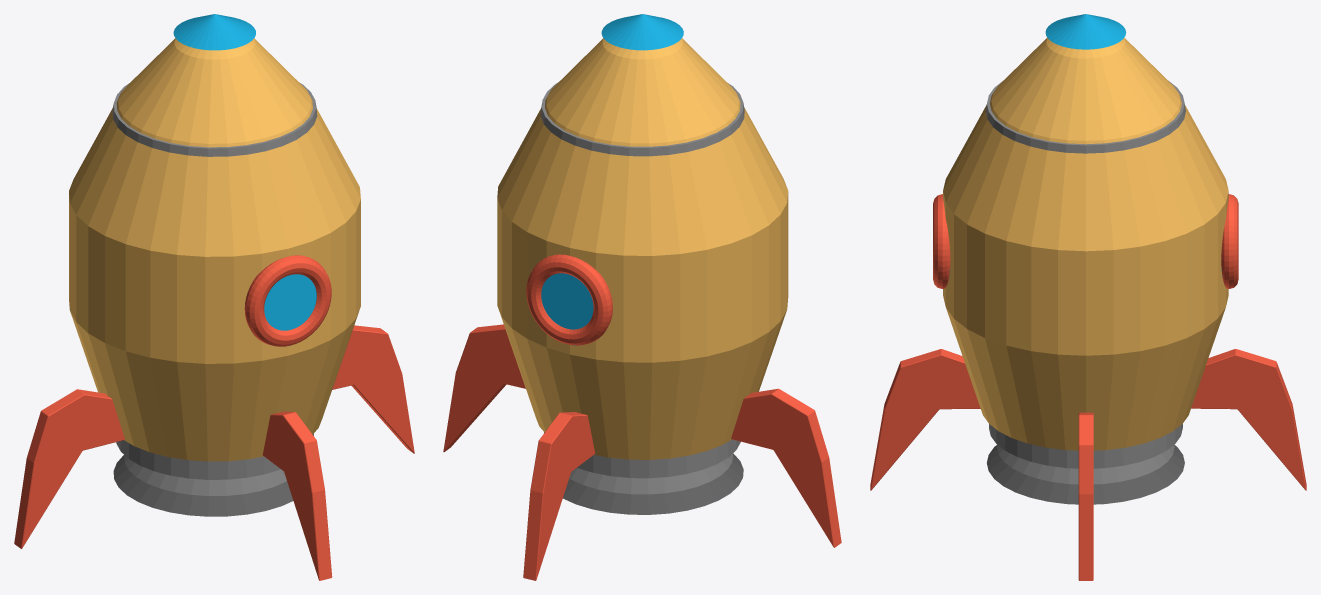
The model's file is Rocket_gj.fbx.
The picture shows the model from 3 angles, left to right: view 1: azimuth 30°, elevation 25°; view 2: azimuth 150°, elevation 25°; view 3: azimuth 270°, elevation 25°; orthographic projection. The views are drawn at different scales.
Visible parts, largest first — view 1: Circle.003, WIng4, WIng2, WIng3, Bottom1.002, Torus1, Bottom1, Bottom1.001, Cylinder.002, Cone.001, Cylinder.001; view 2: Circle.003, WIng4, WIng1, WIng3, Bottom1.002, Torus1.001, Bottom1, Bottom1.001, Cylinder.002, Cone.001, Cylinder.001; view 3: Circle.003, WIng1, WIng2, Bottom1.002, Bottom1, WIng3, Bottom1.001, Cylinder.002, Cone.001, Torus1.001, Torus1.
Part boxes in pixels (x1,y1,x2,y2): Circle.003: (69,38,360,461); WIng4: (14,389,124,548); WIng2: (262,411,332,580); WIng3: (332,325,414,453); Bottom1.002: (113,455,293,516); Torus1: (244,255,331,346); Bottom1: (116,433,313,479); Bottom1.001: (124,455,286,495); Cylinder.002: (112,82,317,156); Cone.001: (173,14,255,50); Cylinder.001: (264,274,316,345); Circle.003: (497,38,788,459); WIng4: (731,388,841,547); WIng1: (523,412,595,580); WIng3: (443,324,525,451); Bottom1.002: (563,453,743,514); Torus1.001: (526,254,612,345); Bottom1: (544,432,740,478); Bottom1.001: (569,453,732,494); Cylinder.002: (540,82,744,156); Cone.001: (601,14,683,50); Cylinder.001: (541,273,593,345); Circle.003: (943,37,1228,450); WIng1: (1191,349,1306,490); WIng2: (870,349,980,490); Bottom1.002: (987,444,1184,504); Bottom1: (989,424,1182,468); WIng3: (1078,412,1093,580); Bottom1.001: (997,445,1174,484); Cylinder.002: (985,80,1185,153); Cone.001: (1045,14,1126,49); Torus1.001: (1221,194,1238,288); Torus1: (933,194,950,288).
Size of the model in its own units: 422 by 498 by 416.
